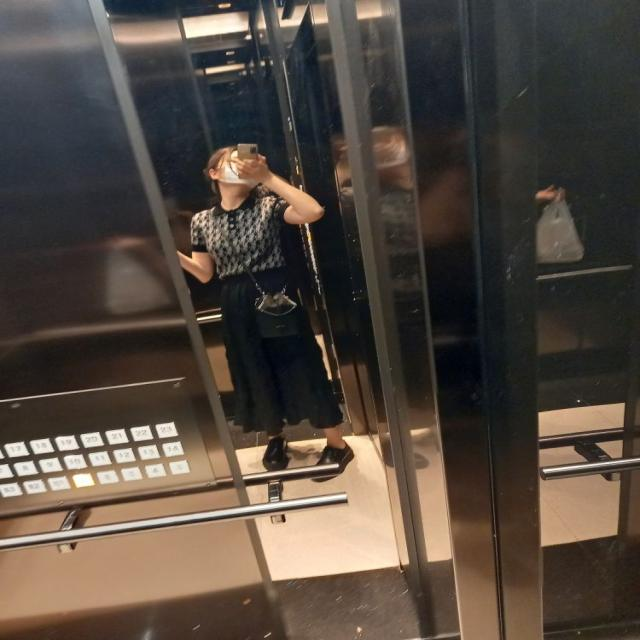shortsleeve: (190, 192, 295, 278)
skirt: (221, 262, 346, 432)
